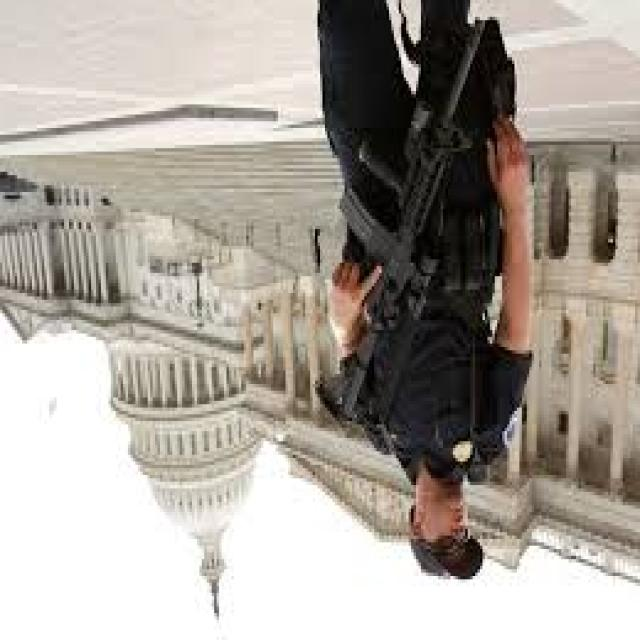gun: (283, 1, 511, 456)
